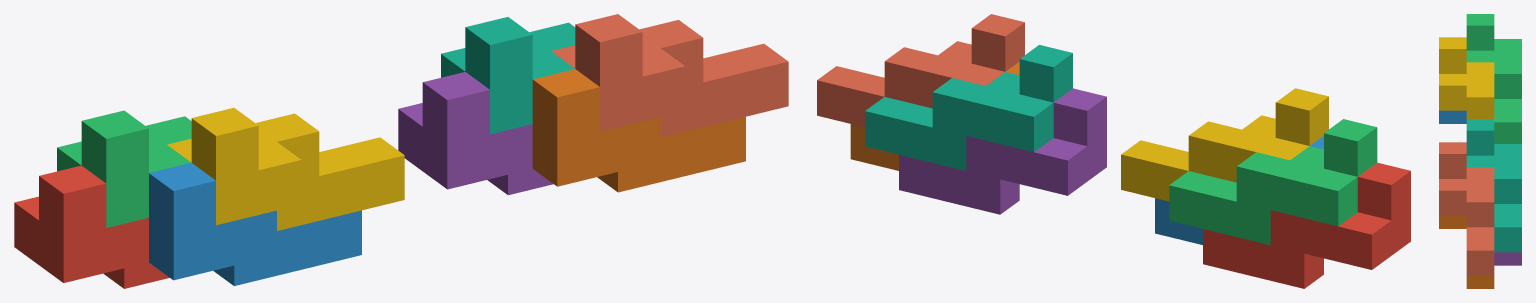
Rendered from tiling.obj.
3 renders of one model, left to right at view 1: azimuth 30°, elevation 25°; view 2: azimuth 150°, elevation 25°; view 3: azimuth 270°, elevation 25°, orthographic. The views are drawn at different scales.
Visible parts, largest first — view 1: copy_1_domain_8, copy_1_domain_4, copy_1_domain_6, copy_1_domain_2, copy_1_domain_1, copy_1_domain_5, copy_1_domain_7, copy_1_domain_3; view 2: copy_1_domain_3, copy_1_domain_7, copy_1_domain_5, copy_1_domain_1, copy_1_domain_4, copy_1_domain_8, copy_1_domain_6, copy_1_domain_2; view 3: copy_1_domain_8, copy_1_domain_7, copy_1_domain_3, copy_1_domain_4, copy_1_domain_6, copy_1_domain_2, copy_1_domain_5.
Part boxes in pixels (x1,y1,x2,y2): copy_1_domain_8: [551, 14, 788, 137]; copy_1_domain_4: [167, 107, 404, 230]; copy_1_domain_6: [532, 69, 745, 192]; copy_1_domain_2: [149, 162, 361, 285]; copy_1_domain_1: [14, 165, 169, 288]; copy_1_domain_5: [398, 72, 553, 195]; copy_1_domain_7: [441, 17, 575, 134]; copy_1_domain_3: [57, 110, 191, 227]; copy_1_domain_3: [1169, 119, 1377, 245]; copy_1_domain_7: [865, 45, 1072, 170]; copy_1_domain_5: [899, 88, 1106, 214]; copy_1_domain_1: [1203, 162, 1410, 288]; copy_1_domain_4: [1121, 88, 1328, 201]; copy_1_domain_8: [817, 14, 1024, 127]; copy_1_domain_6: [850, 62, 1019, 170]; copy_1_domain_2: [1155, 136, 1323, 244]; copy_1_domain_8: [1439, 142, 1494, 275]; copy_1_domain_7: [1466, 119, 1521, 252]; copy_1_domain_3: [1466, 14, 1521, 143]; copy_1_domain_4: [1439, 37, 1494, 118]; copy_1_domain_6: [1439, 215, 1494, 288]; copy_1_domain_2: [1439, 110, 1466, 123]; copy_1_domain_5: [1494, 252, 1521, 265].
Size of the model in its own units: 17 by 4 by 3.
